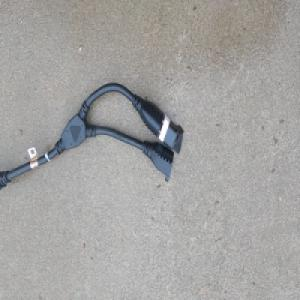Wire: (0, 80, 184, 192)
